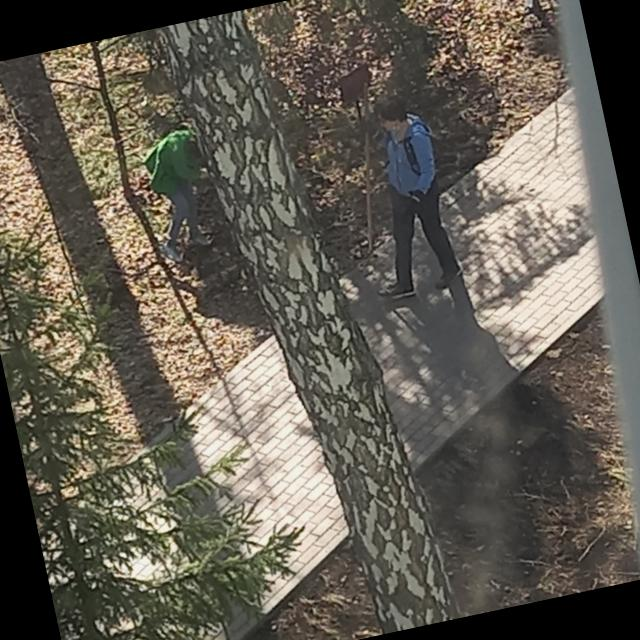person: (345, 88, 464, 300), (137, 125, 220, 265)
